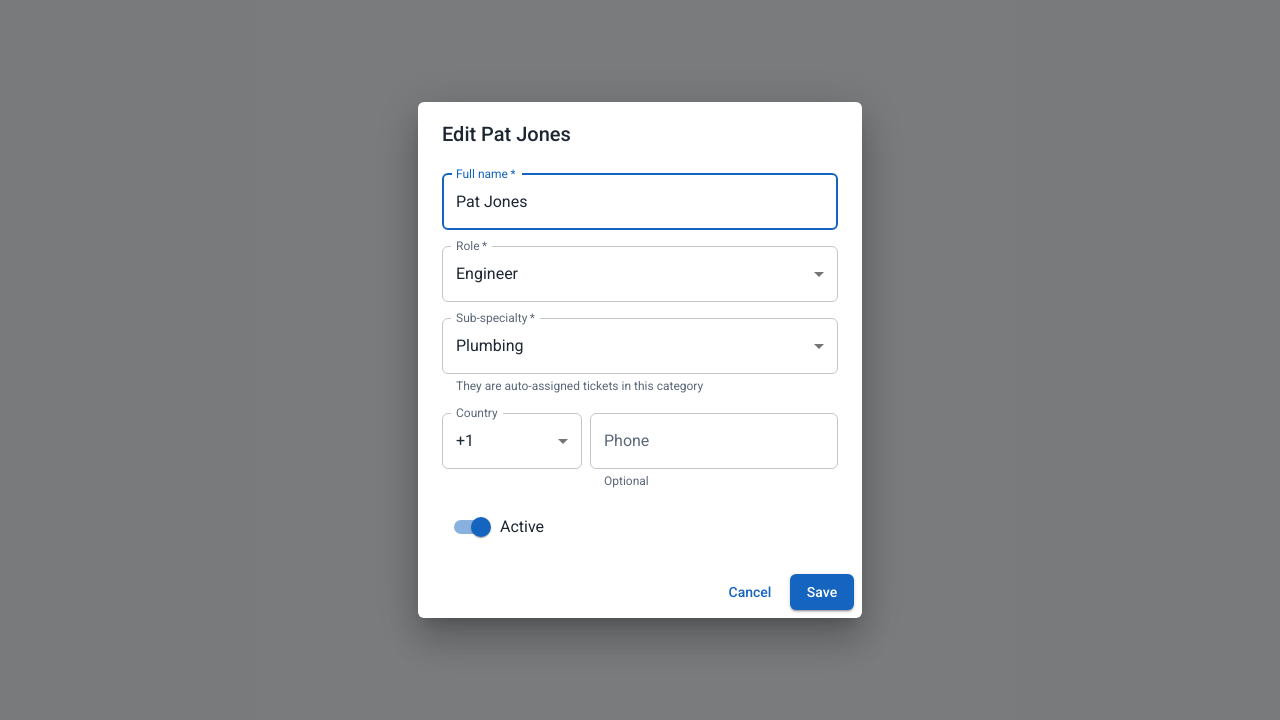
Scenario: UserDialog › warns before deactivating an engineer, and says their sub-specialty is kept
Click the switch. click: click(499, 527)
box: [454,517,544,537]
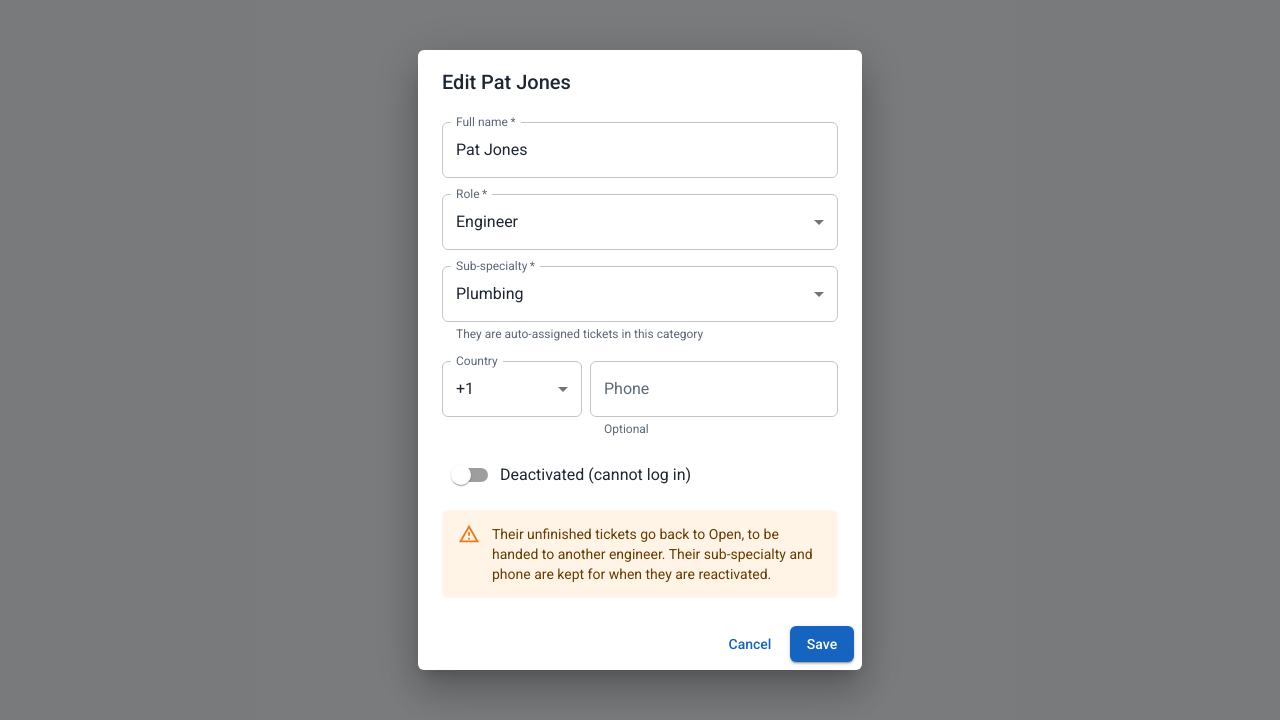
Check: the message shows "Their sub-specialty and phone are kept", box [492,546,813,582]
